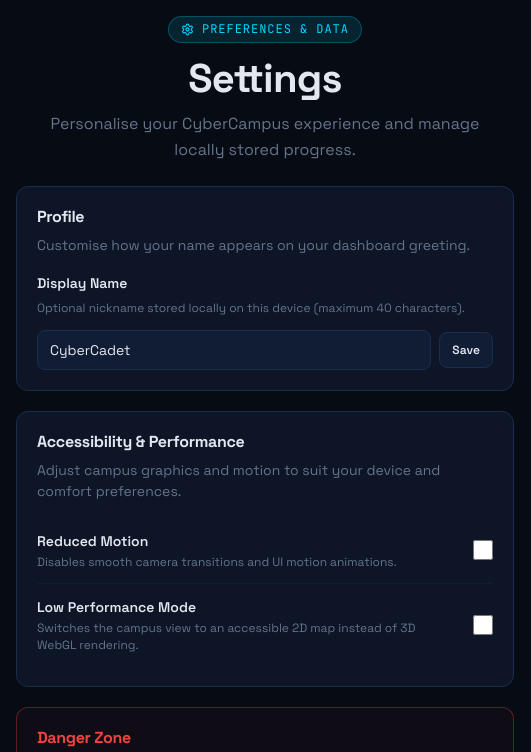
Test case: Task 9A — Progress, Portfolio, and Settings › SettingsPage component › shows accessible save status feedback when saving display name
The width and height of the screenshot is (531, 752).
Type "AgentZero" into the field labelled "Display Name".
click(234, 350); type("AgentZero")  # box [37, 330, 431, 370]
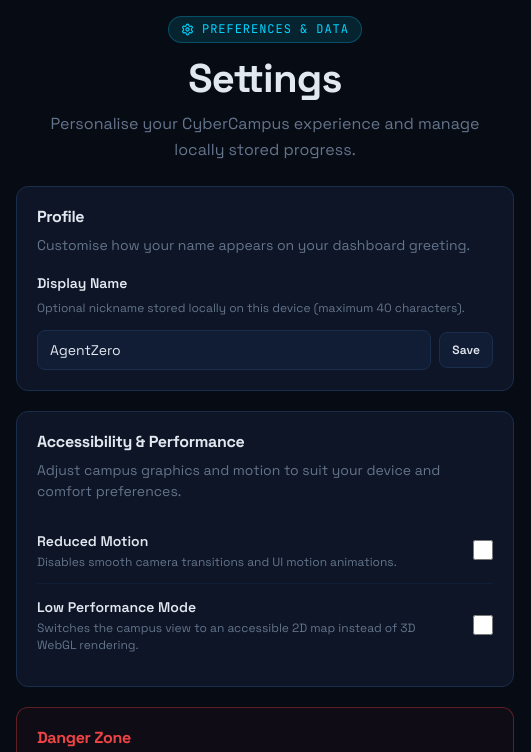
Click the button with aria-label "save display name".
click(466, 350)  # box [439, 332, 493, 368]
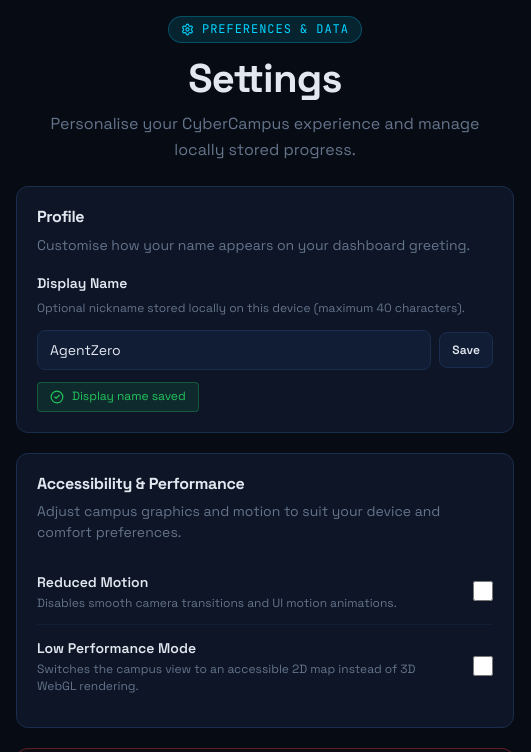
Check: the message reads "Display name saved", box [72, 388, 186, 404]
